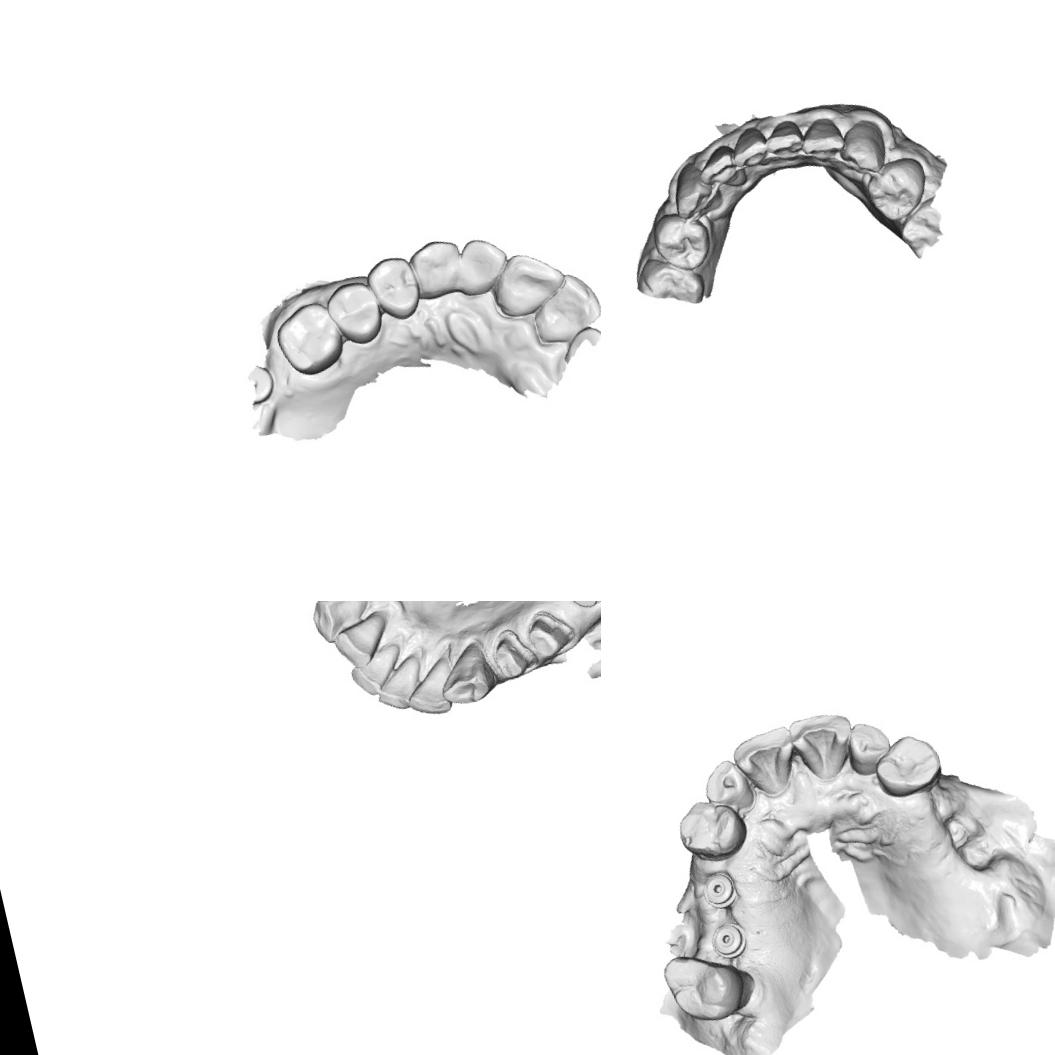canine: (432, 638, 498, 710), (405, 235, 470, 303), (834, 113, 894, 180), (666, 156, 726, 222), (306, 601, 379, 647)
crown: (523, 604, 578, 663), (488, 630, 534, 683)
implant: (705, 916, 751, 962), (698, 868, 744, 914)
incisor: (486, 244, 573, 322), (524, 267, 601, 348), (728, 724, 804, 804), (787, 708, 862, 786), (449, 232, 515, 300), (328, 609, 396, 674), (697, 754, 761, 821), (399, 654, 458, 722), (345, 640, 409, 701), (369, 652, 430, 716), (841, 717, 896, 779), (696, 142, 748, 196), (795, 112, 846, 167), (726, 120, 772, 174), (764, 116, 809, 166)
molar: (659, 941, 759, 1032), (268, 296, 353, 382)
premolar: (672, 790, 754, 868), (858, 151, 937, 227), (868, 729, 947, 803), (644, 206, 718, 280), (322, 276, 389, 351), (363, 252, 426, 326)
